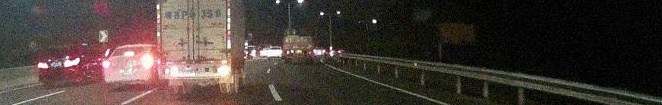L_light: (37, 61, 49, 70), (102, 60, 115, 68)
R_light: (140, 58, 155, 68), (64, 58, 78, 67)
T_light: (123, 51, 134, 57), (57, 49, 65, 52)
night-no: (37, 48, 84, 86)
night-right: (102, 43, 156, 87)
